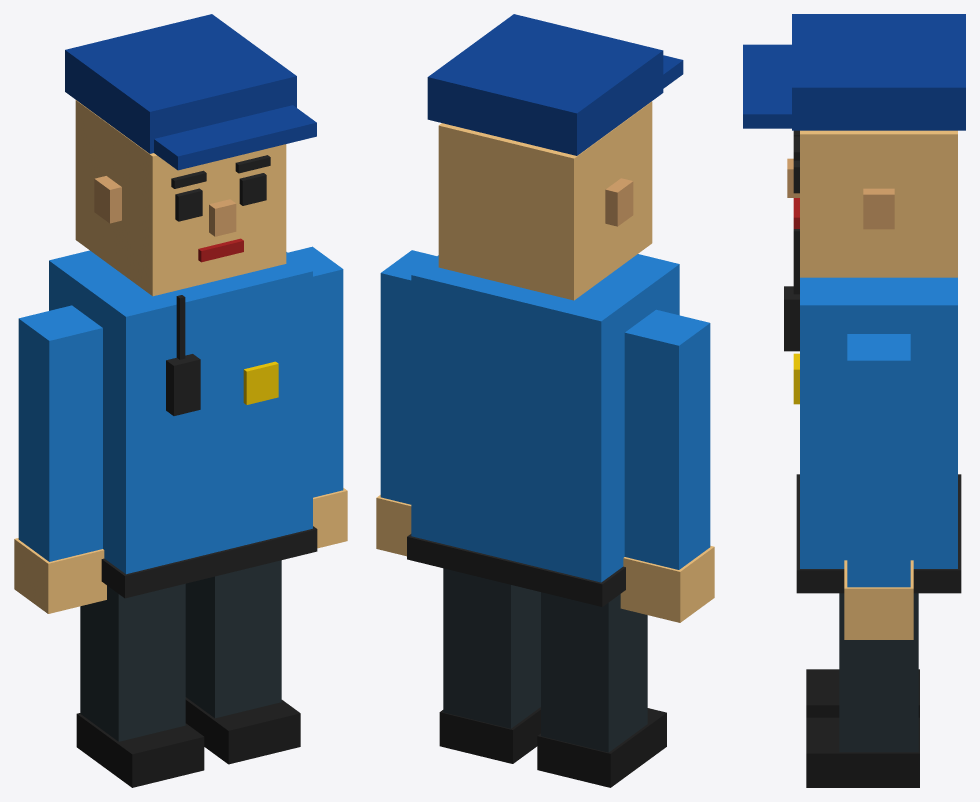
The model's file is guard.glb.
The picture shows the model from 3 angles, left to right: view 1: azimuth 30°, elevation 25°; view 2: azimuth 150°, elevation 25°; view 3: azimuth 270°, elevation 25°; orthographic projection. The views are drawn at different scales.
Parts seen in each view (by area): view 1: Torso, Head, ArmL, Cap, LegL, LegR, ArmR, LegL_shoe, Brim, Belt, LegR_shoe, ArmL_hand (+9 smaller); view 2: Torso, Head, Cap, ArmL, LegL, LegR, ArmR, Belt, ArmL_hand, LegL_shoe, LegR_shoe, ArmR_hand (+1 smaller); view 3: Torso, Head, Cap, ArmR, LegR, LegR_shoe, Brim, ArmR_hand, Belt, LegL_shoe, EarR, Radio (+1 smaller).
Boxes of the visible parts, <box> form: Torso: <box>49,250,312,574</box>; Head: <box>75,100,286,296</box>; ArmL: <box>18,305,102,561</box>; Cap: <box>65,14,296,153</box>; LegL: <box>80,583,185,741</box>; LegR: <box>185,560,281,718</box>; ArmR: <box>288,246,343,497</box>; LegL_shoe: <box>76,713,204,787</box>; Brim: <box>154,105,316,170</box>; Belt: <box>101,526,317,598</box>; LegR_shoe: <box>185,697,300,764</box>; ArmL_hand: <box>14,538,106,613</box>; Torso: <box>411,254,679,582</box>; Head: <box>438,101,652,300</box>; Cap: <box>427,14,663,155</box>; ArmL: <box>624,309,710,569</box>; LegL: <box>541,592,647,752</box>; LegR: <box>443,568,540,728</box>; ArmR: <box>380,250,436,504</box>; Belt: <box>407,534,625,606</box>; ArmL_hand: <box>620,545,714,622</box>; LegL_shoe: <box>537,708,666,787</box>; LegR_shoe: <box>439,707,540,763</box>; ArmR_hand: <box>376,495,411,556</box>; Torso: <box>800,277,957,568</box>; Head: <box>800,130,957,277</box>; Cap: <box>792,14,965,130</box>; ArmR: <box>847,334,910,587</box>; LegR: <box>839,593,918,752</box>; LegR_shoe: <box>806,717,919,787</box>; Brim: <box>743,44,791,128</box>; ArmR_hand: <box>844,560,913,639</box>; Belt: <box>796,474,961,593</box>; LegL_shoe: <box>806,669,919,717</box>; EarR: <box>863,188,894,229</box>; Radio: <box>784,286,799,351</box>.
Bounding box in the file's own units: 1.12 × 2.42 × 0.705.
